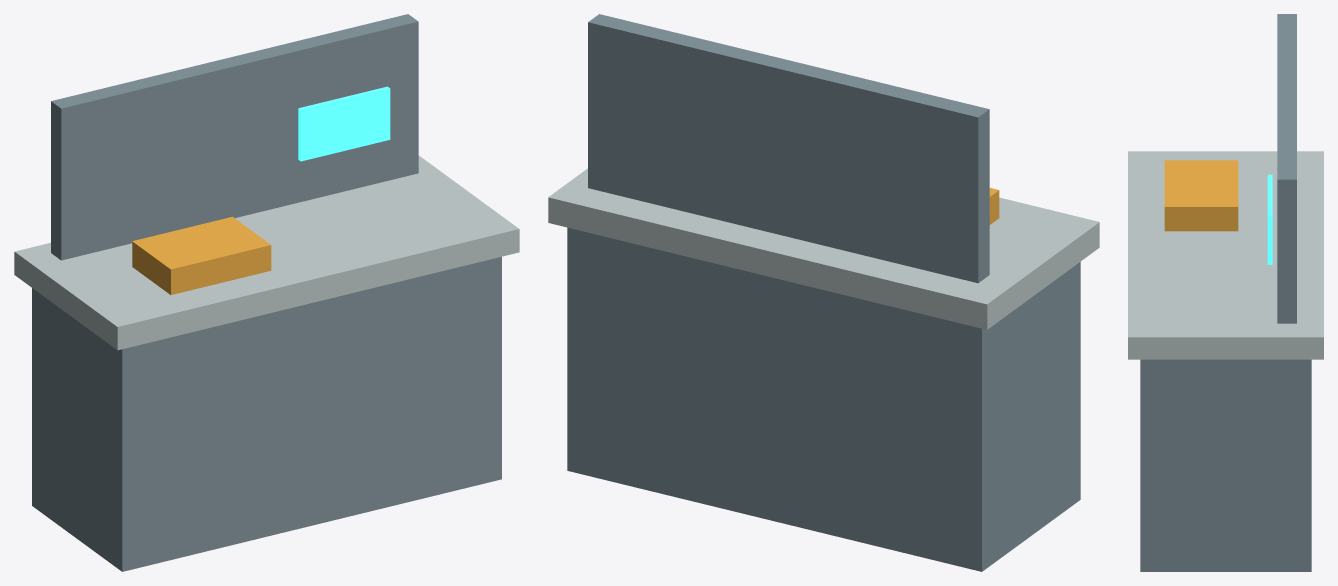
File: Interior_Workbench.glb
3 renders of one model, left to right at view 1: azimuth 30°, elevation 25°; view 2: azimuth 150°, elevation 25°; view 3: azimuth 270°, elevation 25°, orthographic. The views are drawn at different scales.
Visible parts, largest first — view 1: Interior_Workbench; view 2: Interior_Workbench; view 3: Interior_Workbench.
Boxes of the visible parts, bbox=[...] form: Interior_Workbench: bbox=[14, 14, 519, 571]; Interior_Workbench: bbox=[548, 14, 1099, 571]; Interior_Workbench: bbox=[1128, 14, 1323, 571].
Size of the model in its own units: 1.8 by 1.74 by 0.8.
